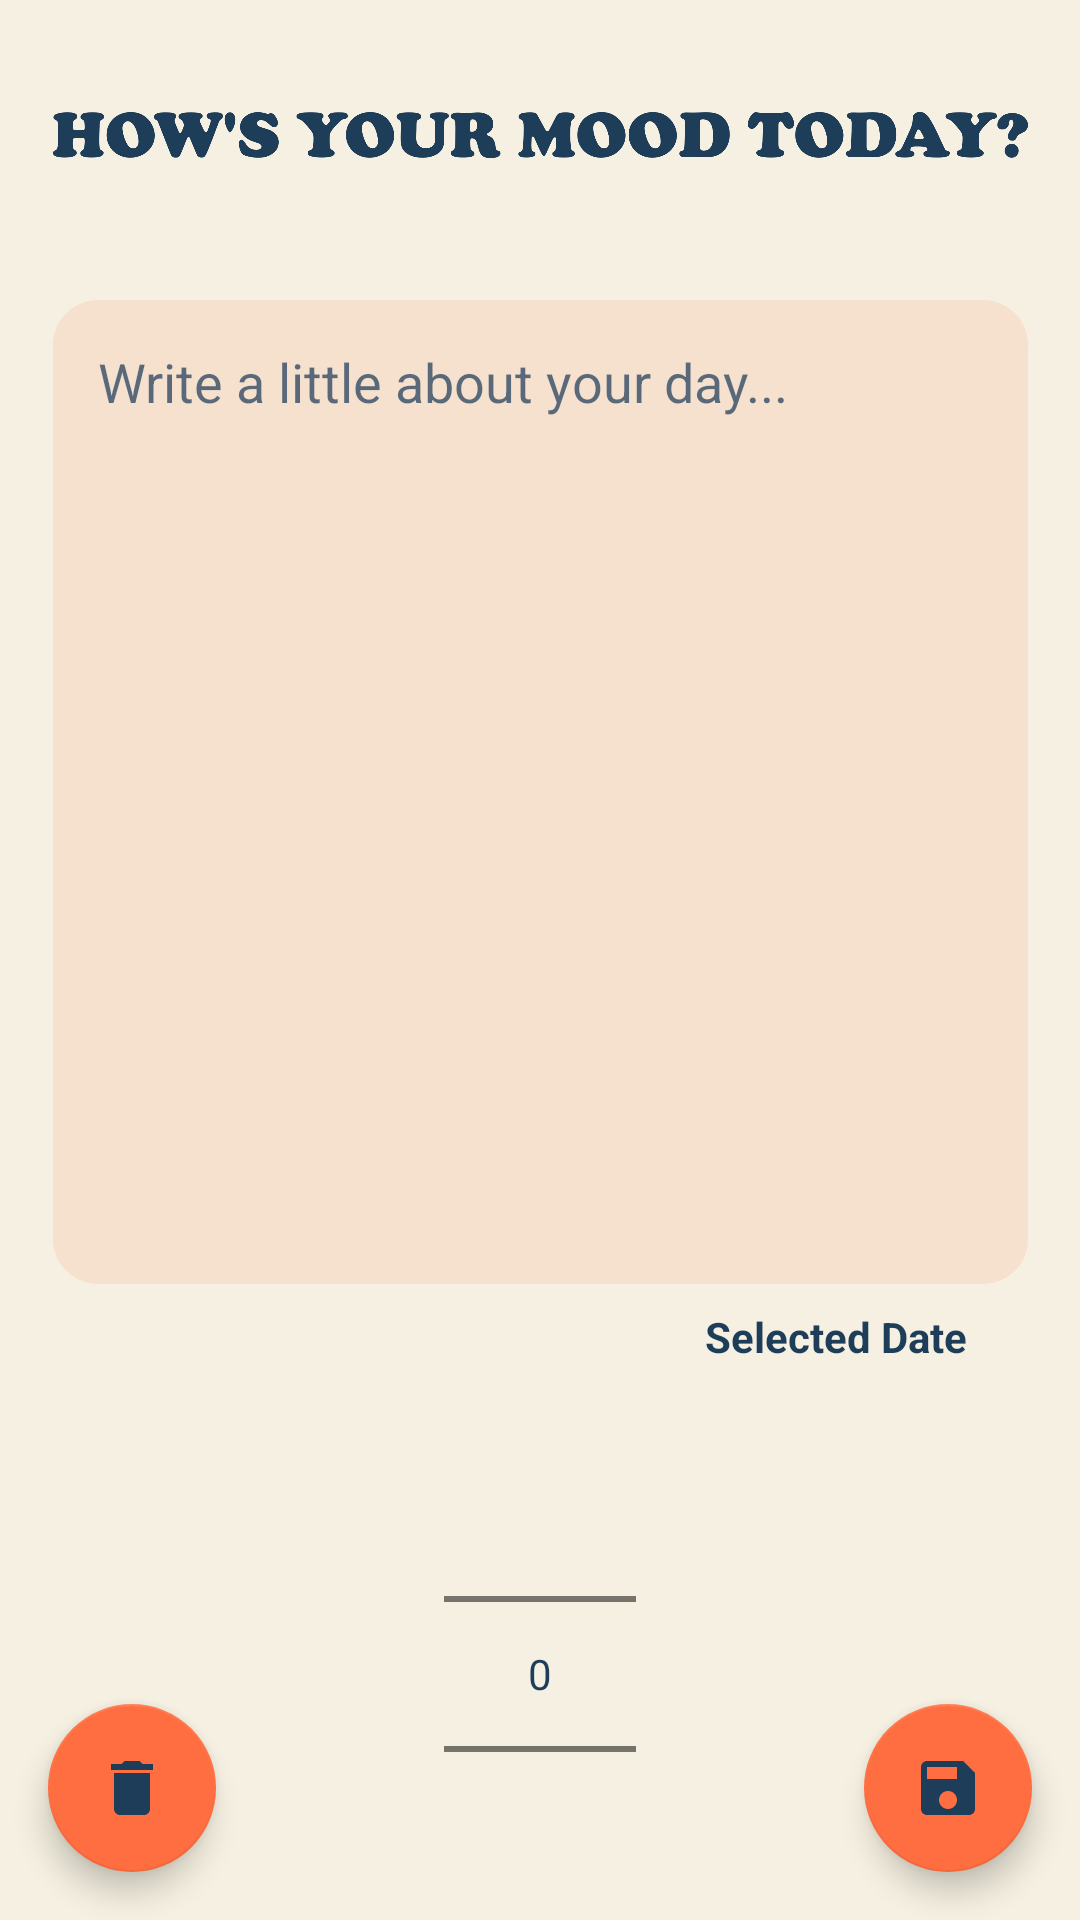

Locate icon controls on the screen. Image size 1080 × 1920, boxes as bbox=[x1, y1, x2, y2].
delete: bbox=[48, 1704, 216, 1872]
save: bbox=[864, 1704, 1032, 1872]
